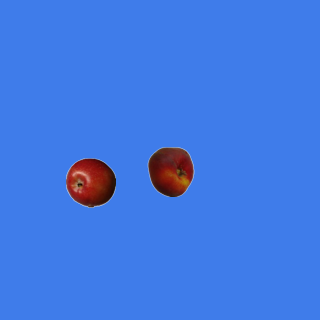Apple Braeburn: (65, 157, 115, 207)
Nectarine Flat: (145, 146, 195, 196)
